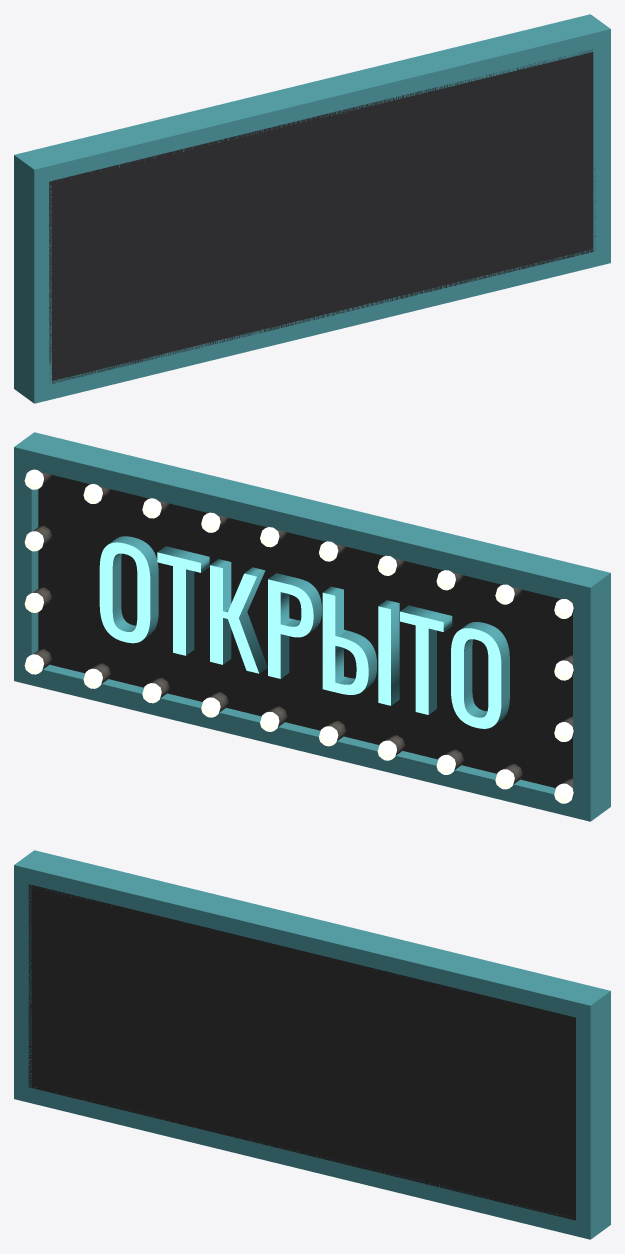
The model's file is open_sign.glb.
3 renders of one model, top to bottom at view 1: azimuth 30°, elevation 25°; view 2: azimuth 150°, elevation 25°; view 3: azimuth 330°, elevation 25°, orthographic.
Visible parts, largest first — view 1: Sign; view 2: Sign, BulbsA, BulbsB; view 3: Sign.
Boxes of the visible parts, x1=… form: Sign: x1=14, y1=14, x2=610, y2=403; Sign: x1=14, y1=432, x2=610, y2=821; BulbsA: x1=24, y1=484, x2=573, y2=789; BulbsB: x1=24, y1=469, x2=573, y2=803; Sign: x1=14, y1=850, x2=610, y2=1239.
Bounding box in the file's own units: 1.96 × 0.76 × 0.168.
